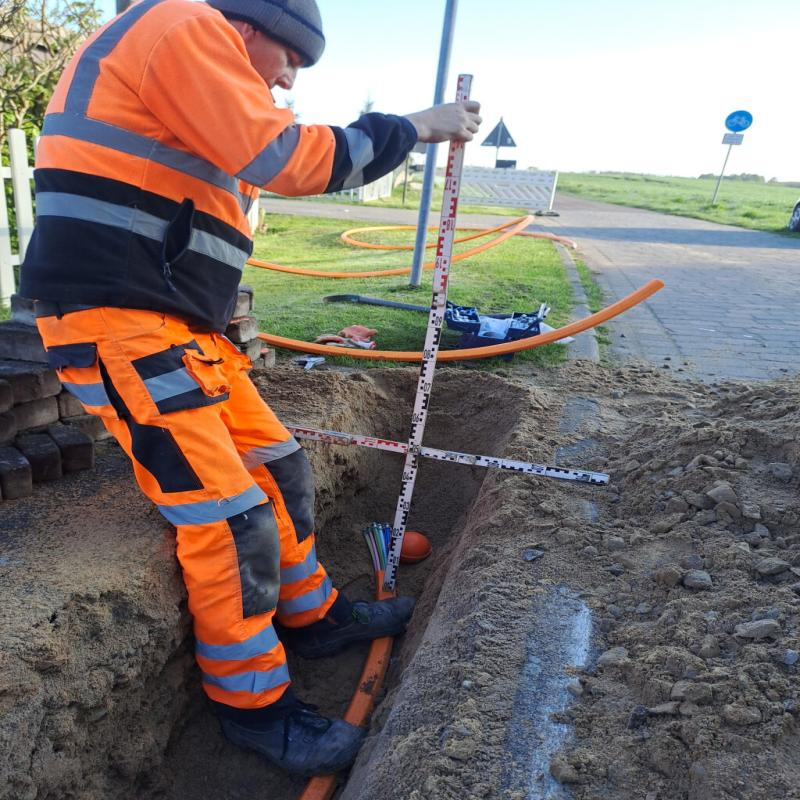Kugelmarker: (400, 532, 432, 563)
Orang-Speednetrohrchen: (362, 522, 397, 600)
